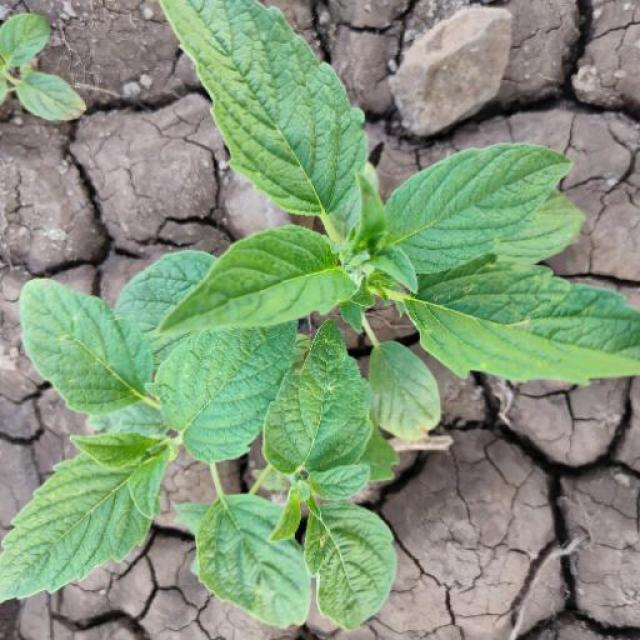crop: (1, 22, 639, 628)
